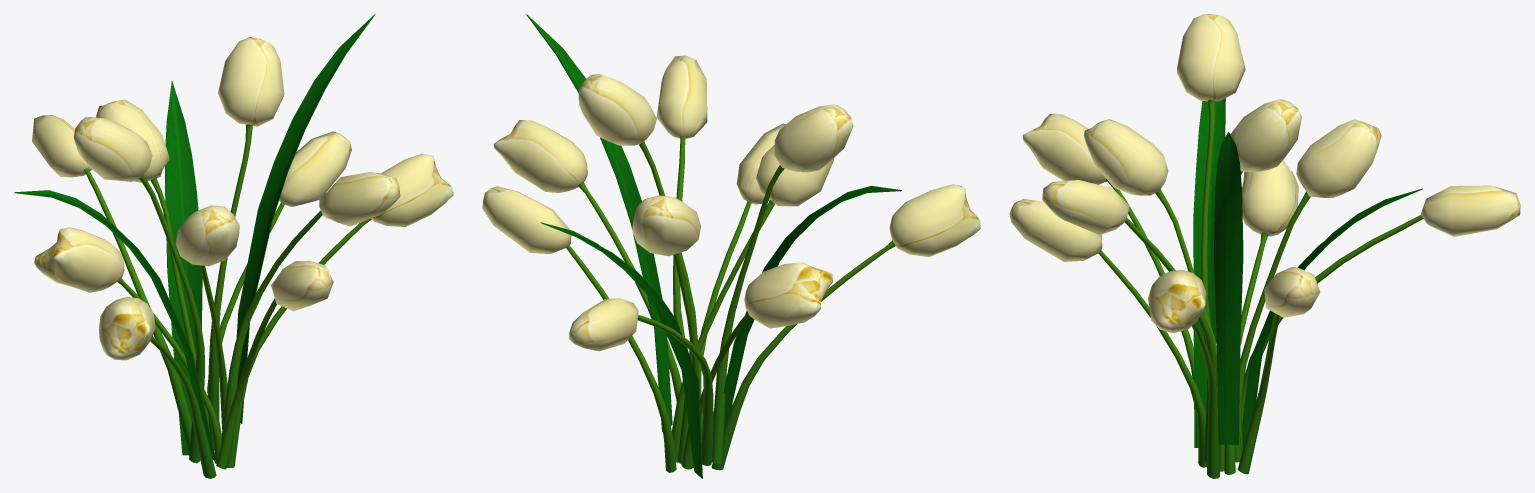
Rendered from DecorFlowerTulips02_1.FBX.
The picture shows the model from 3 angles, left to right: view 1: azimuth 30°, elevation 25°; view 2: azimuth 150°, elevation 25°; view 3: azimuth 270°, elevation 25°; orthographic projection. The views are drawn at different scales.
Parts seen in each view (by area): view 1: DecorFlowerTulips02_1; view 2: DecorFlowerTulips02_1; view 3: DecorFlowerTulips02_1.
Boxes of the visible parts, bbox=[...] form: DecorFlowerTulips02_1: bbox=[14, 14, 453, 478]; DecorFlowerTulips02_1: bbox=[482, 14, 980, 478]; DecorFlowerTulips02_1: bbox=[1009, 14, 1520, 478].
Size of what is drawn, in the model's own units: 0.486 by 0.4629 by 0.5077.
